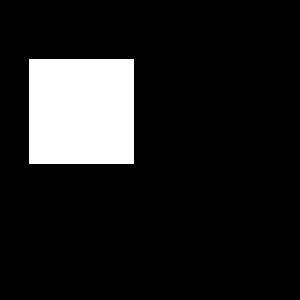circle: (29, 59, 134, 164)
